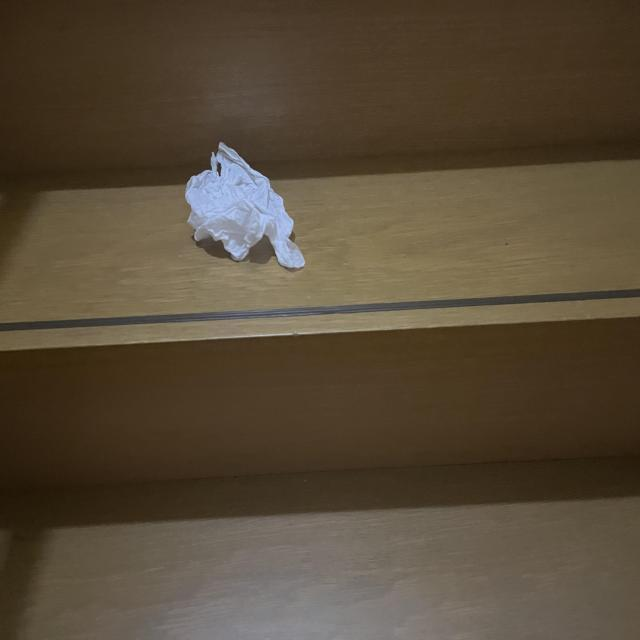Paper: (184, 140, 313, 269)
